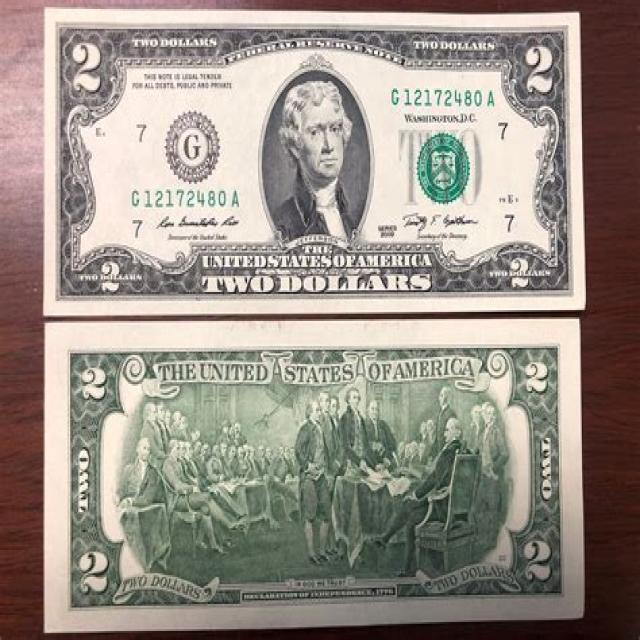Two: (46, 322, 580, 633), (47, 10, 585, 306)
